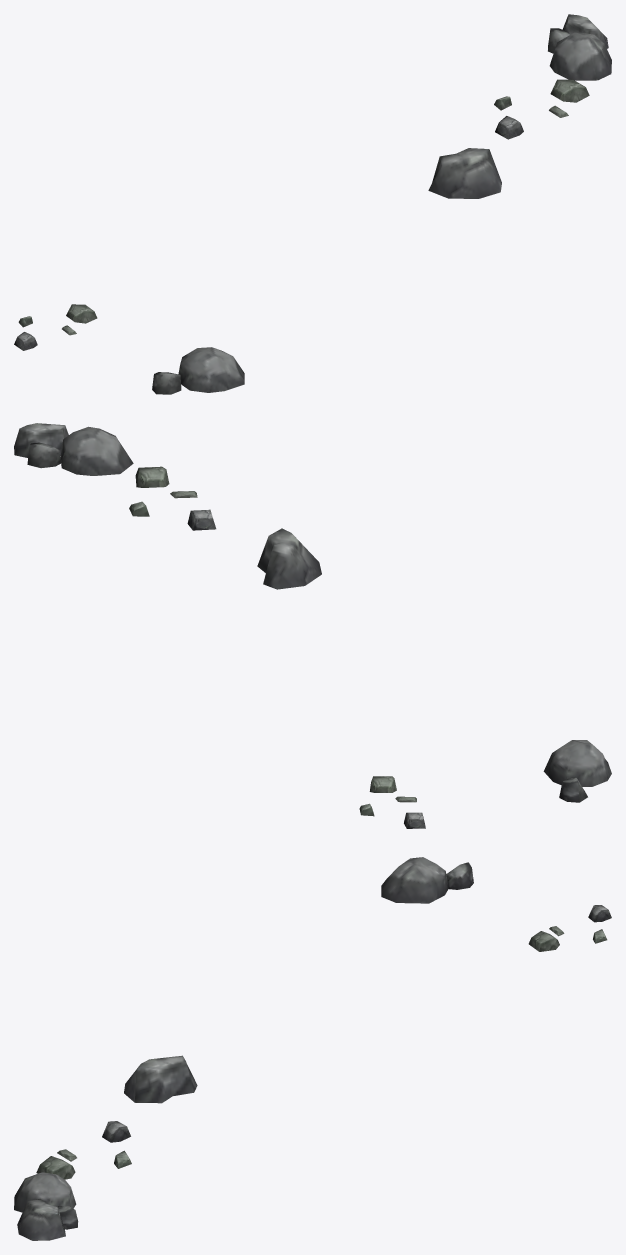
File: Area_06_34.fbx
The picture shows the model from 3 angles, top to bottom: view 1: azimuth 90°, elevation 25°; view 2: azimuth 150°, elevation 25°; view 3: azimuth 270°, elevation 25°; orthographic projection. The views are drawn at different scales.
Parts seen in each view (by area): view 1: Area_06_34; view 2: Area_06_34; view 3: Area_06_34.
Boxes of the visible parts, x1,y1,x2,y2 form: Area_06_34: [14, 14, 611, 394]; Area_06_34: [14, 423, 611, 828]; Area_06_34: [14, 857, 611, 1240].
Size of the model in its own units: 2674 by 115 by 1862.
